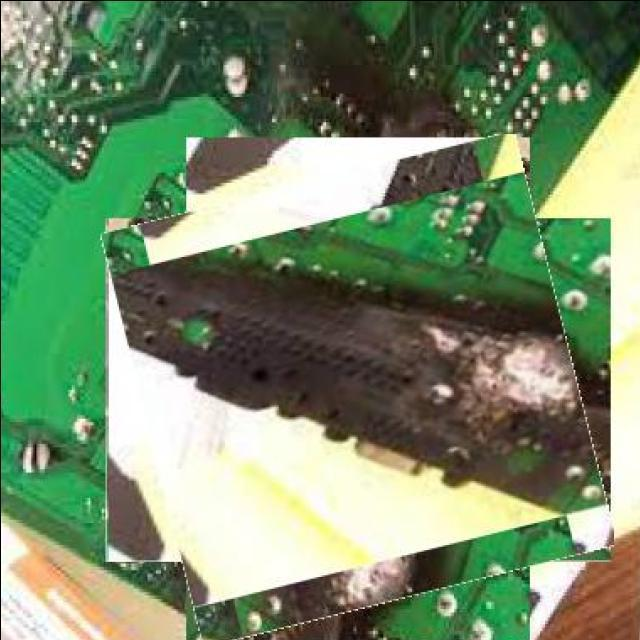Burn: (122, 153, 594, 623)
